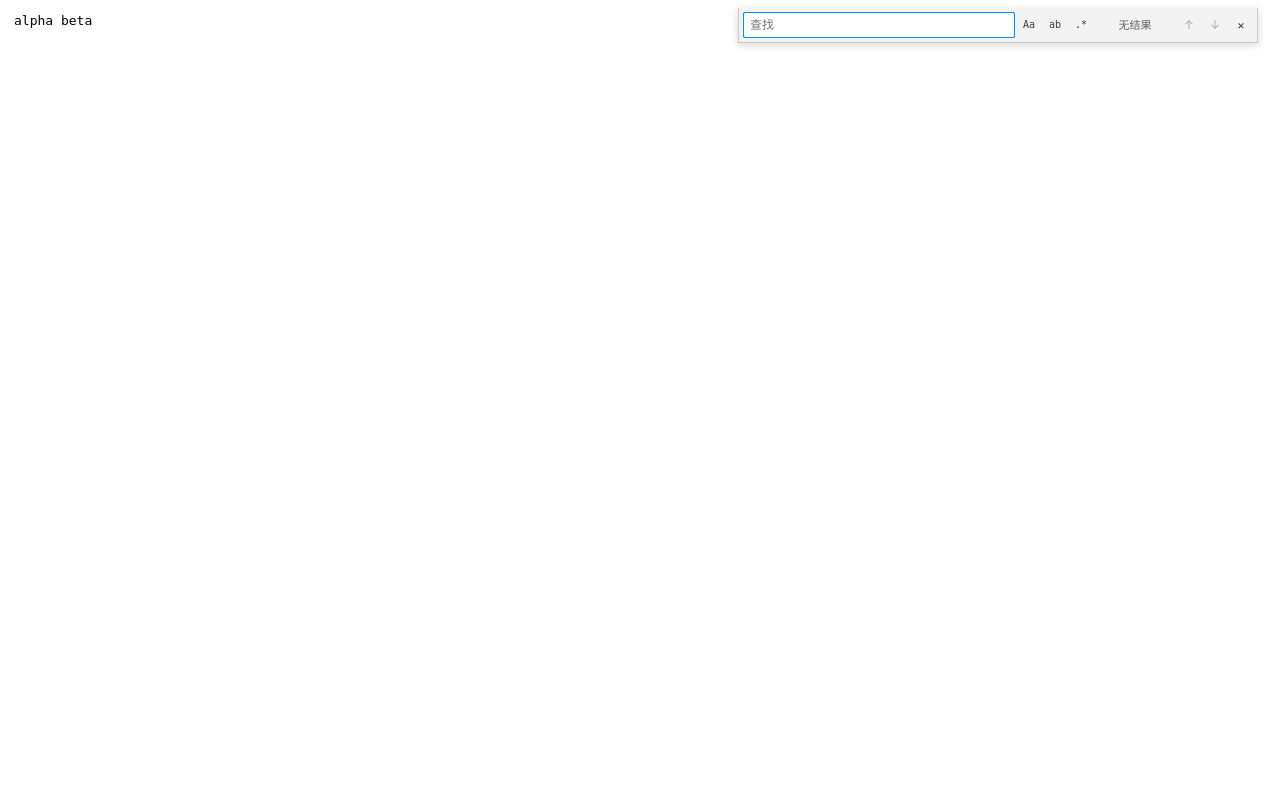
Test: chapter search panel › 区分无结果和非法正则状态并禁用导航
Click the button ".*".
click(1081, 25)  # box [1069, 13, 1093, 37]
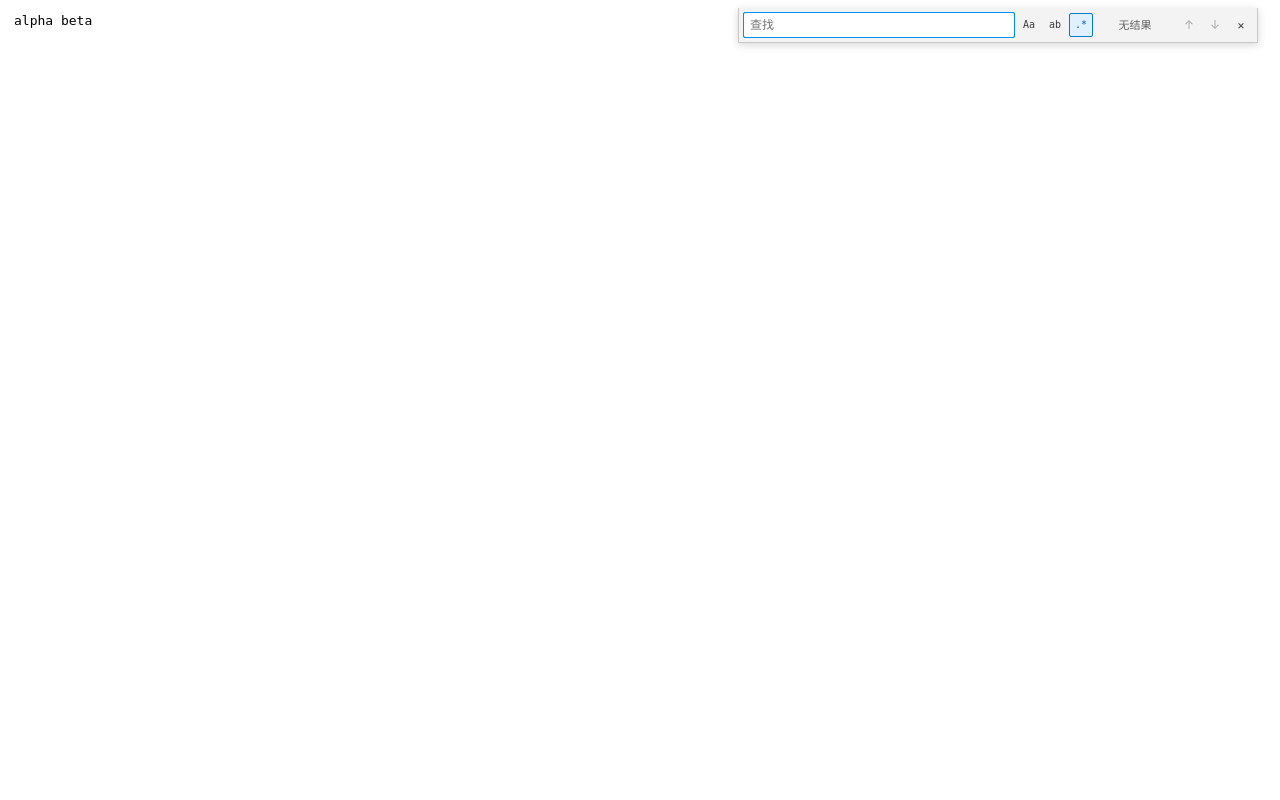
Type "[" into the field named "查找".
click(879, 25); type("[")  # box [743, 12, 1015, 38]
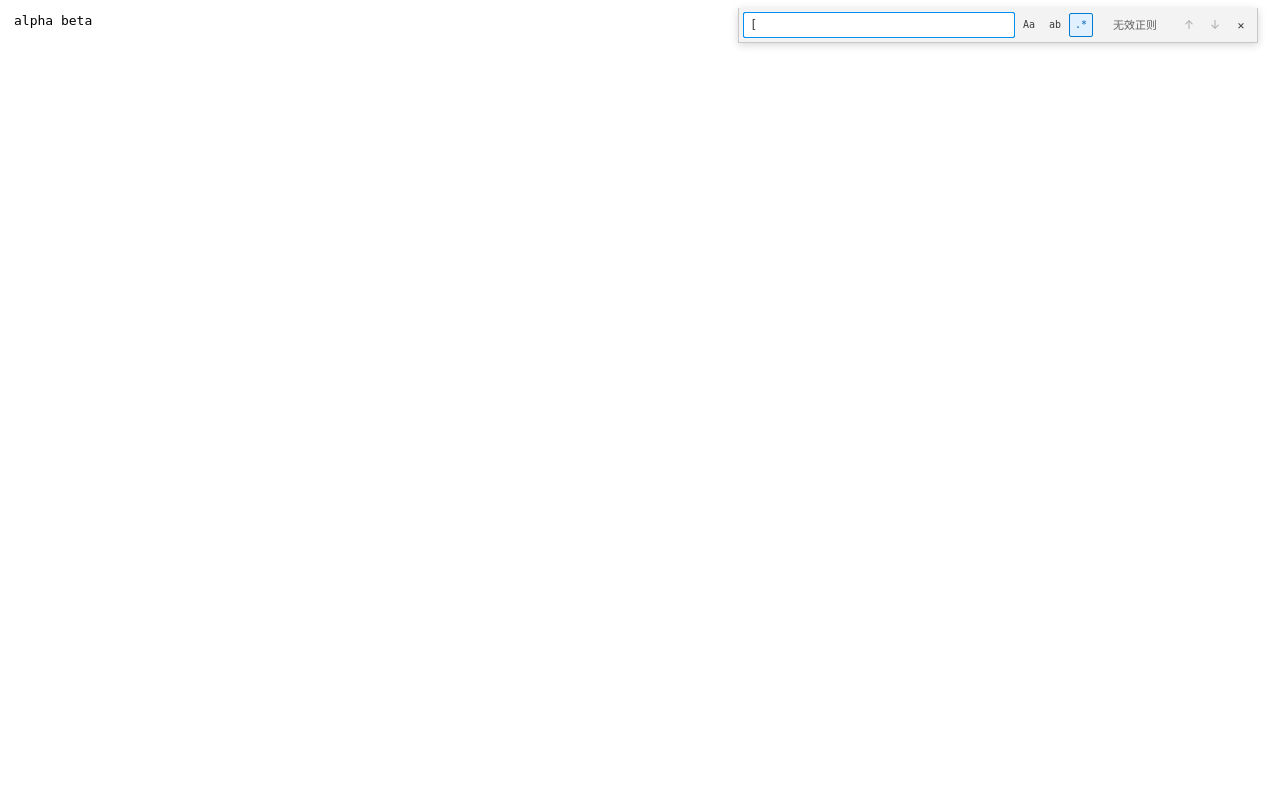
Check: the text "无效正则" is shown, box [1113, 18, 1157, 32]
Click the button ".*".
click(1081, 25)  # box [1069, 13, 1093, 37]
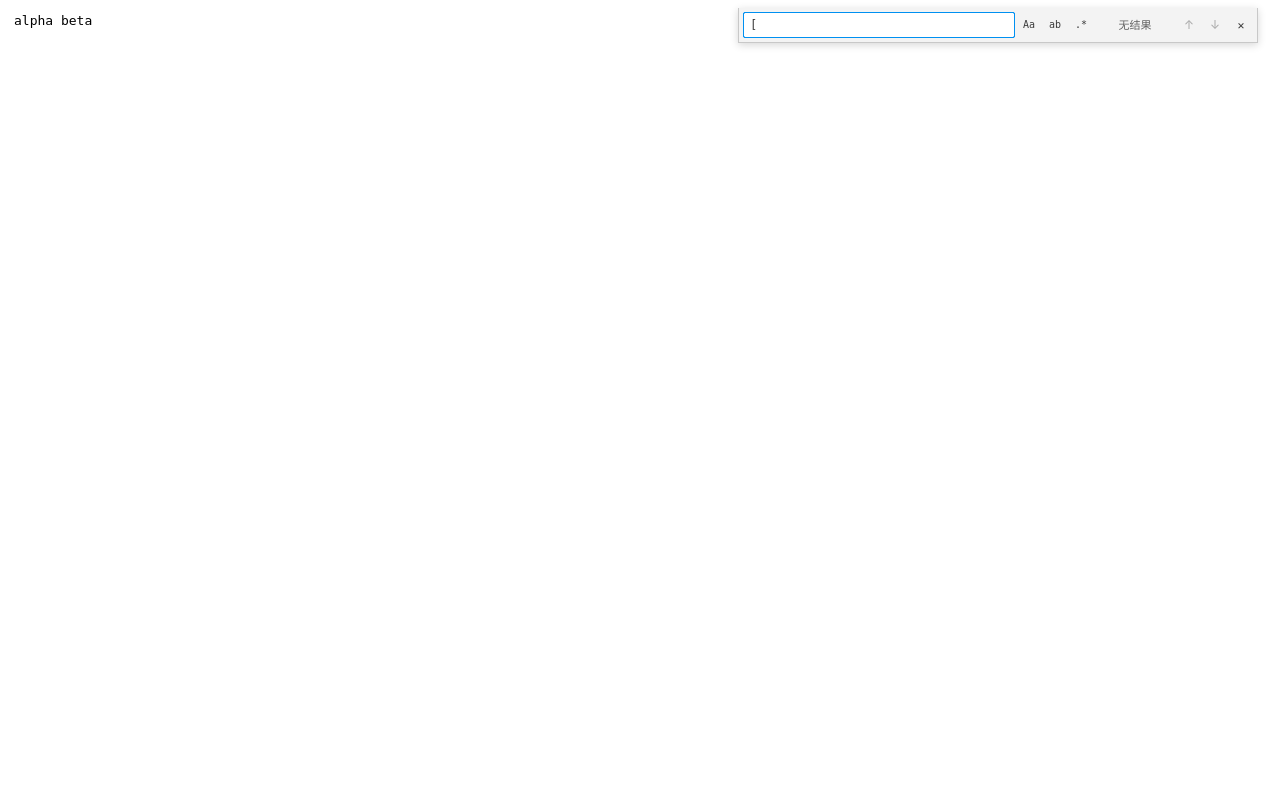
Check: the text "无结果" is shown, box [1118, 18, 1152, 32]
